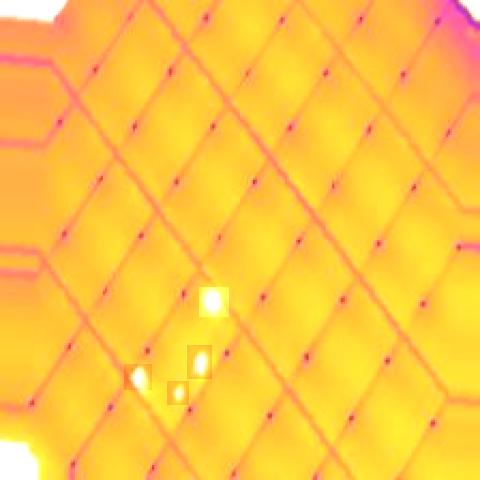fault: (200, 287, 230, 317), (187, 345, 212, 379), (124, 364, 152, 390), (167, 381, 189, 405)
